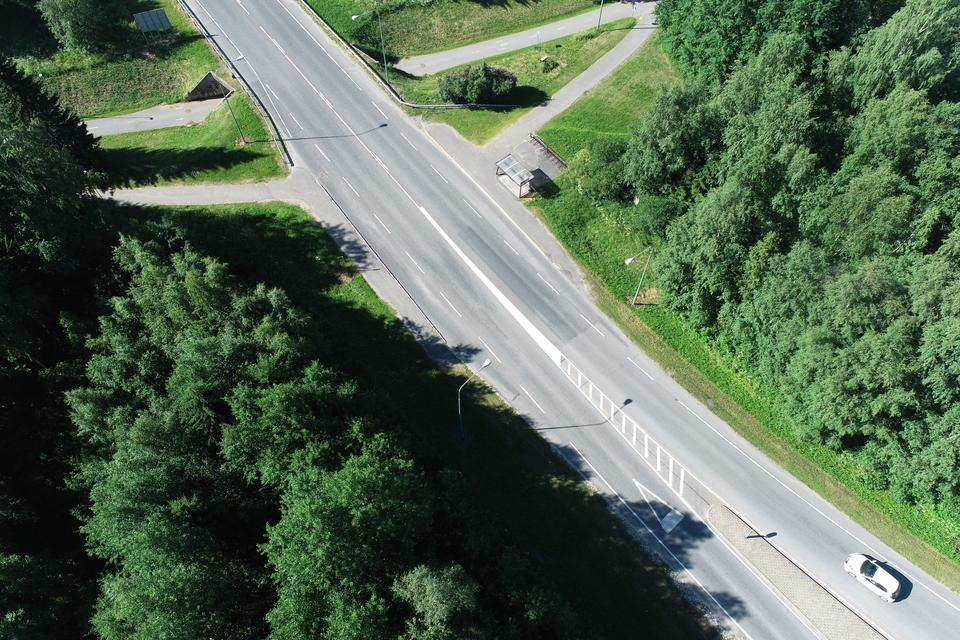intersection: (158, 141, 363, 251), (420, 104, 590, 235)
